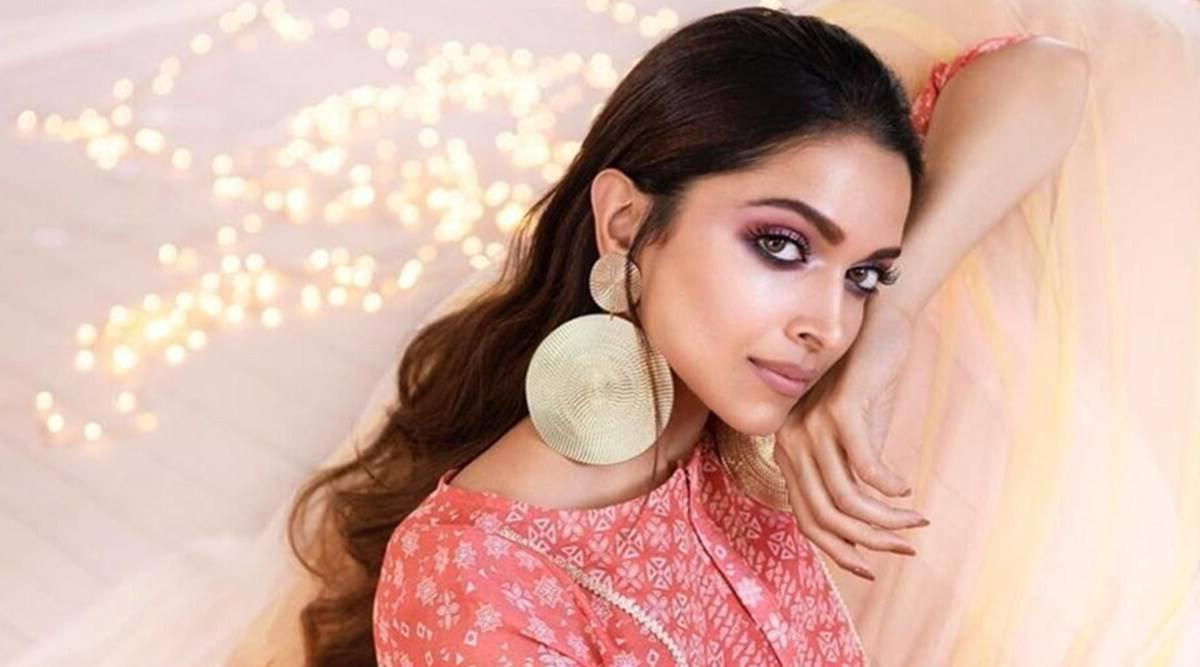Sober: (663, 152, 895, 408)
